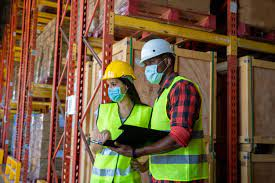hard-hat: (137, 38, 178, 68), (100, 59, 137, 84)
